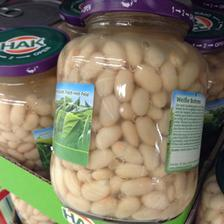Bohnen: (54, 0, 208, 219)
